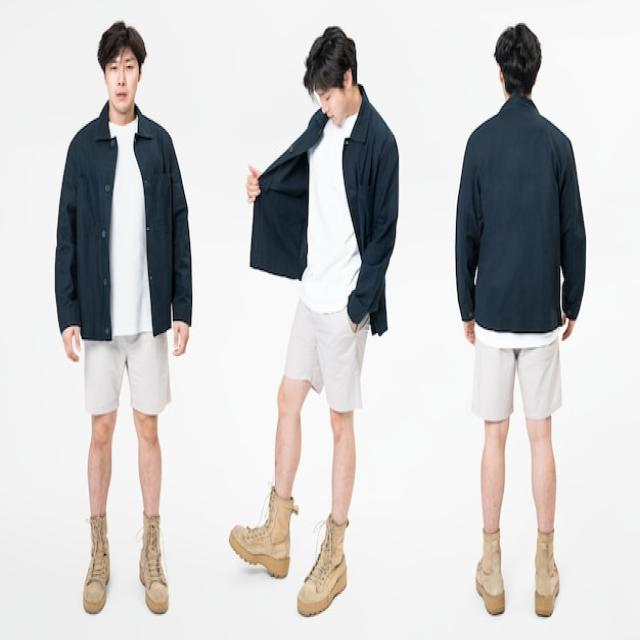Person: (229, 24, 399, 616), (54, 21, 192, 618), (456, 24, 585, 619)
